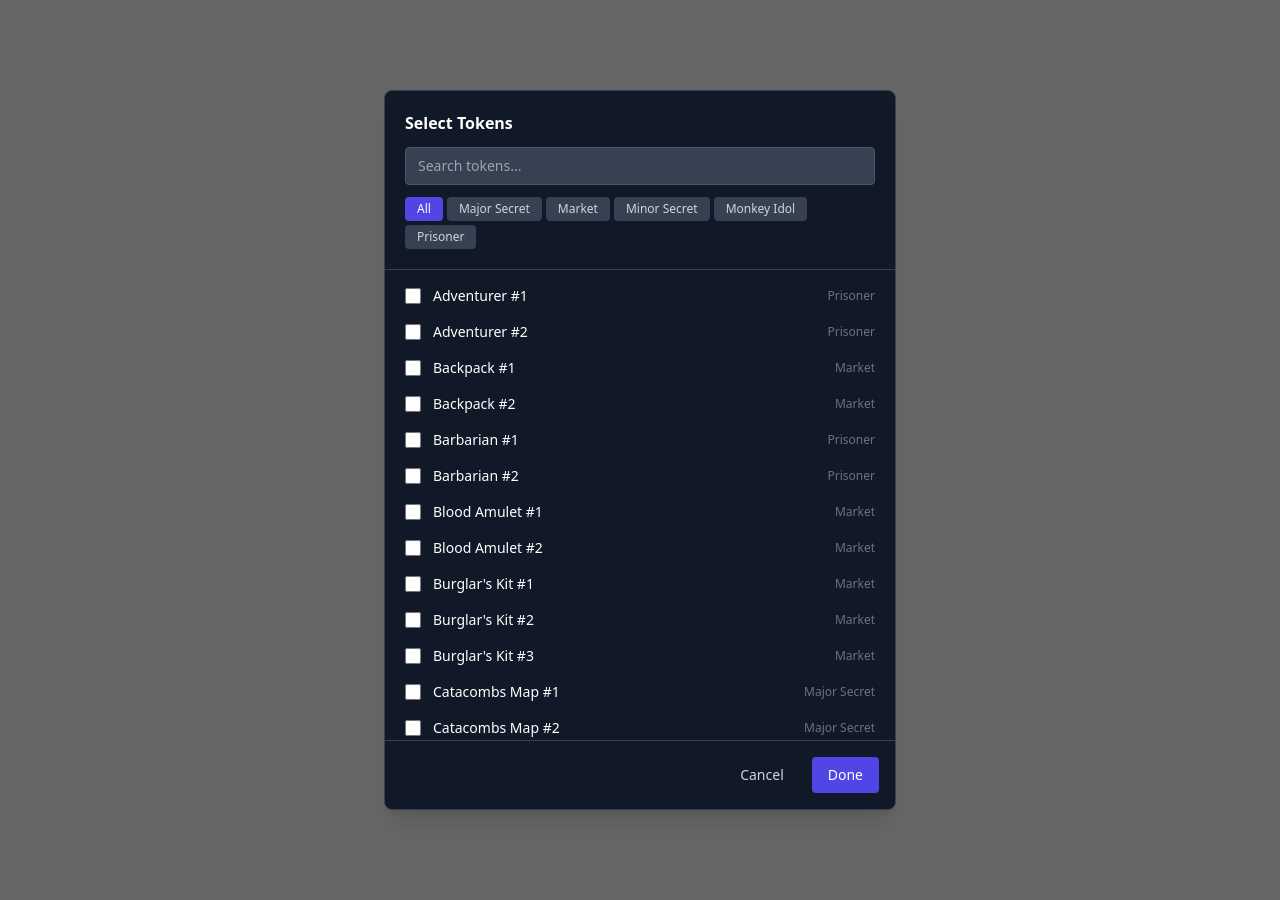
TokenPickerModal › filtering by Market type shows only market items
Click the button "Market". click: (578, 209)
box: x1=546 y1=197 x2=610 y2=221
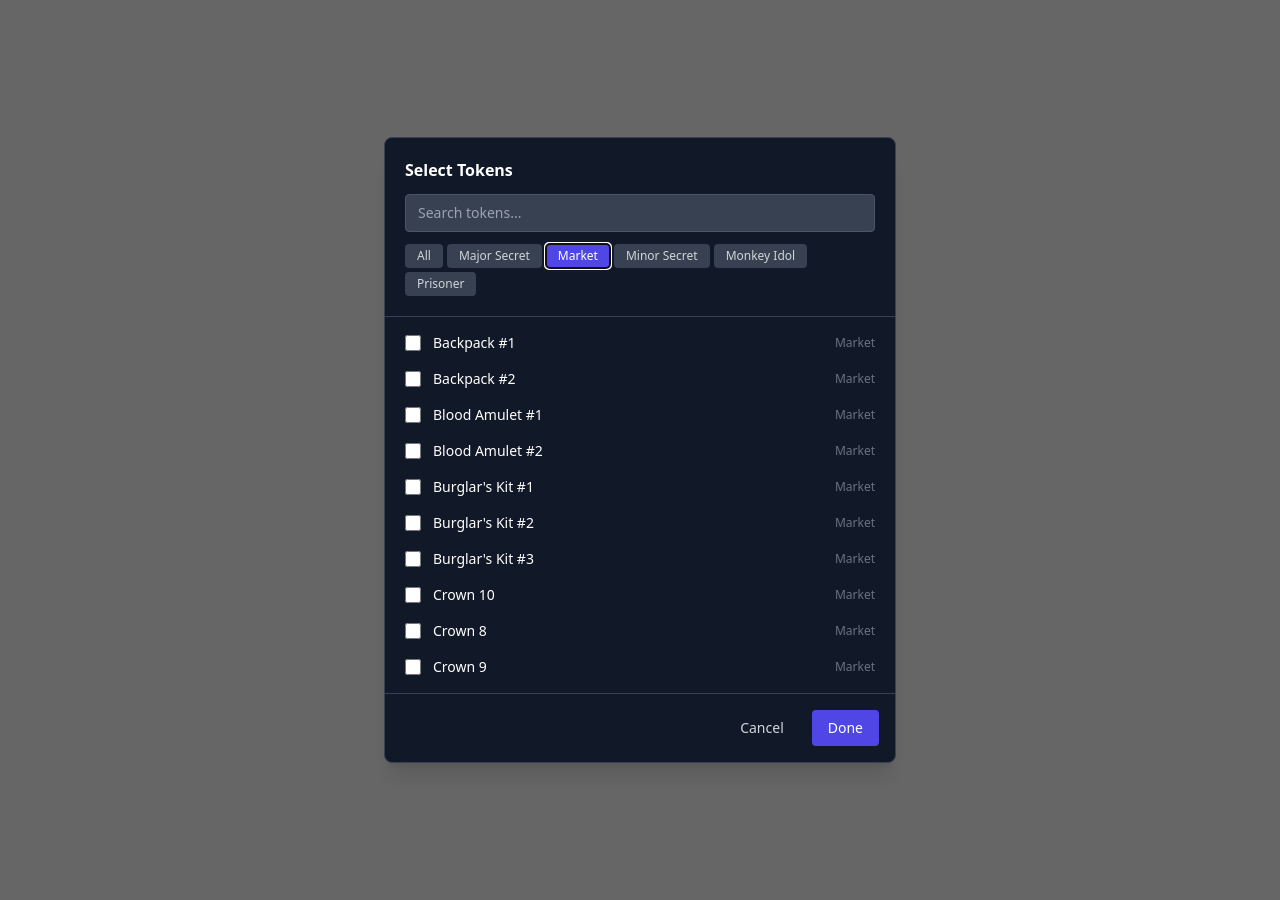
expect the text "Backpack #1" is shown: met, box x1=433 y1=333 x2=516 y2=352
expect the text "Crown 10" is shown: met, box x1=433 y1=585 x2=495 y2=604
